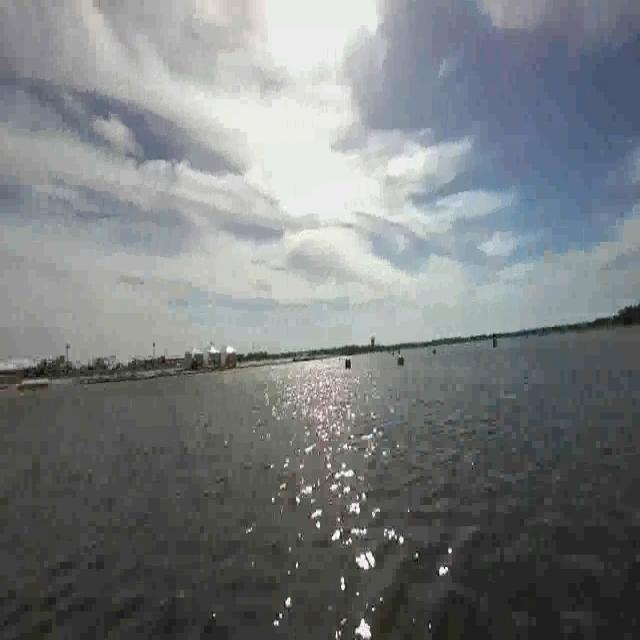black-buoy: (344, 354, 352, 371), (396, 354, 404, 366)
